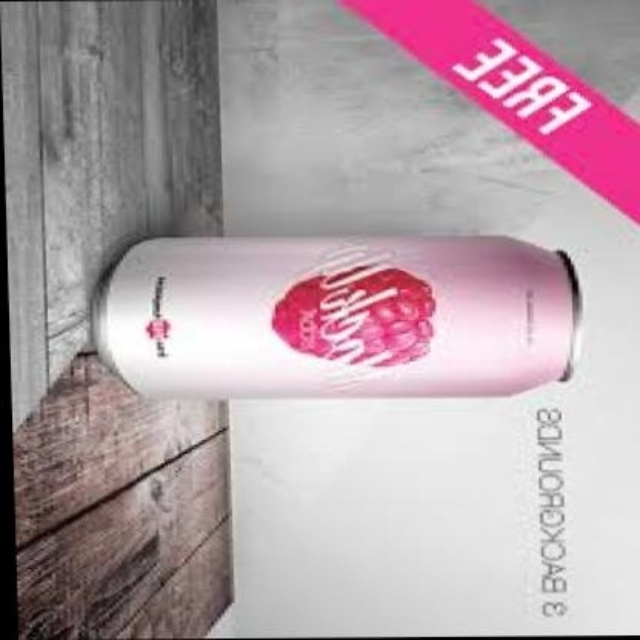trash: (97, 237, 575, 395)
